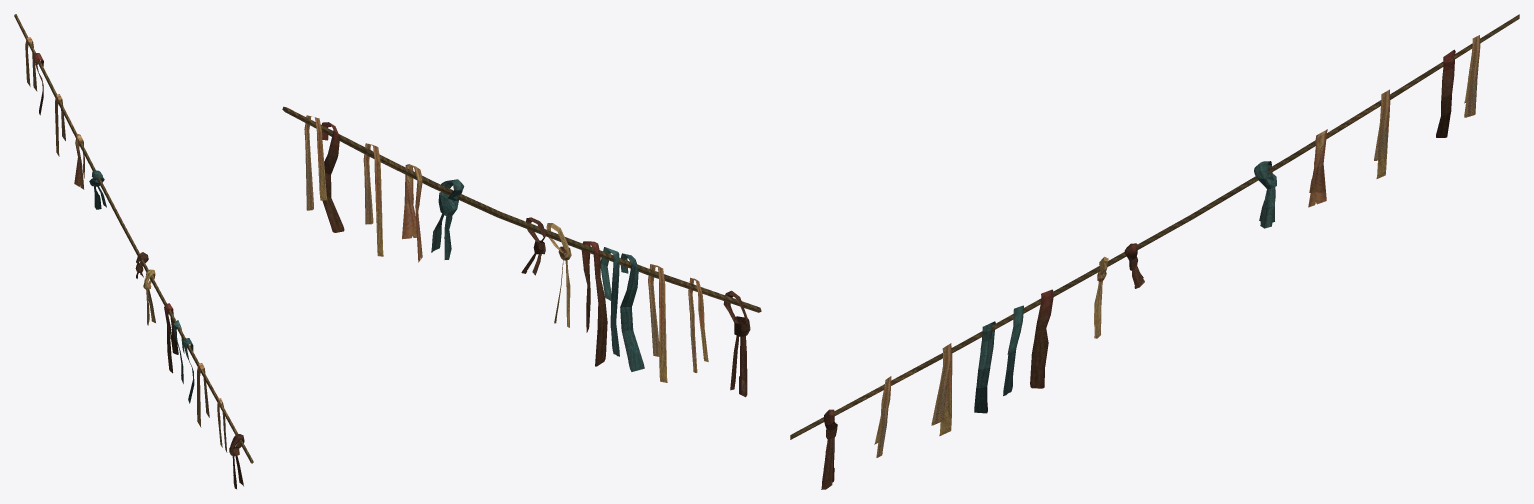
Rendered from bg_anh_mirrorv_febricrope02_sm_phs.FBX.
3 renders of one model, left to right at view 1: azimuth 30°, elevation 25°; view 2: azimuth 150°, elevation 25°; view 3: azimuth 270°, elevation 25°, orthographic. The views are drawn at different scales.
Visible parts, largest first — view 1: bg_anh_mirrorv_febricrope02_sm_phs; view 2: bg_anh_mirrorv_febricrope02_sm_phs; view 3: bg_anh_mirrorv_febricrope02_sm_phs.
Boxes of the visible parts, x1,y1,x2,y2 form: bg_anh_mirrorv_febricrope02_sm_phs: [14, 14, 253, 489]; bg_anh_mirrorv_febricrope02_sm_phs: [282, 106, 761, 397]; bg_anh_mirrorv_febricrope02_sm_phs: [790, 14, 1519, 489].
Size of the model in its own units: 16.44 by 276 by 384.
